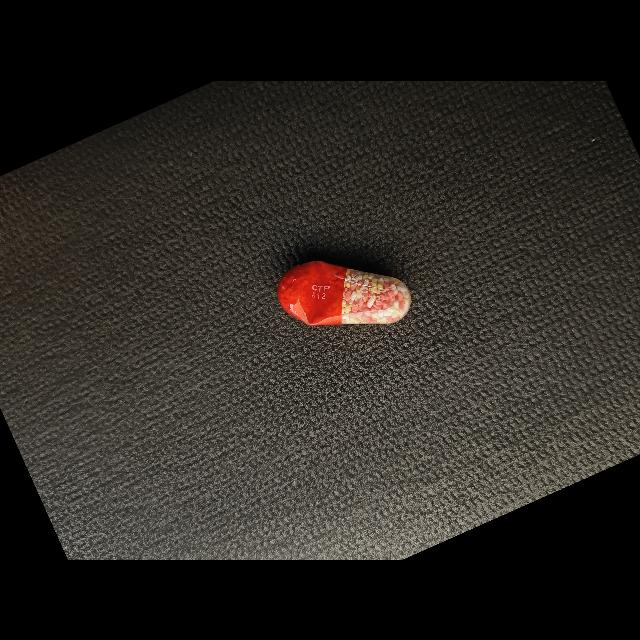Defective Capsule: (277, 260, 411, 325)
